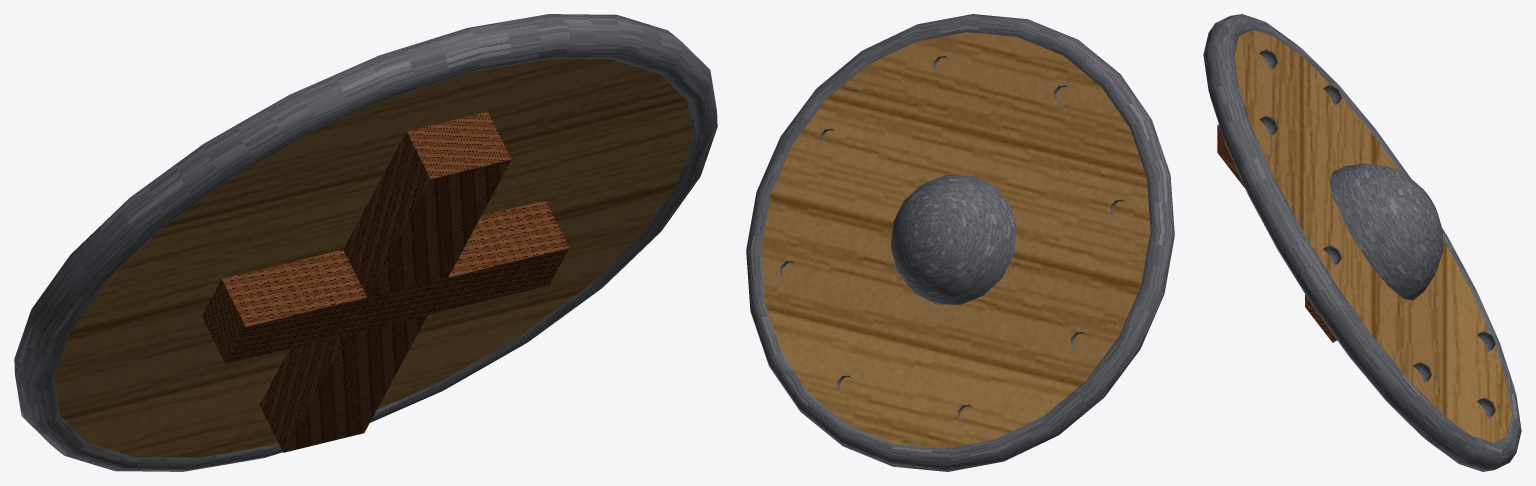
Rendered from oak-shield.glb.
3 views of the same model, side by side, from view 1: azimuth 30°, elevation 25°; view 2: azimuth 150°, elevation 25°; view 3: azimuth 270°, elevation 25° (orthographic). The views are drawn at different scales.
Visible parts, largest first — view 1: OakShield; view 2: OakShield; view 3: OakShield.
Boxes of the visible parts, x1=… form: OakShield: x1=14, y1=14, x2=717, y2=471; OakShield: x1=746, y1=14, x2=1174, y2=471; OakShield: x1=1203, y1=14, x2=1521, y2=471.
Bounding box in the file's own units: 4.03 × 3.34 × 2.41.
3 materials, 3 textured.
